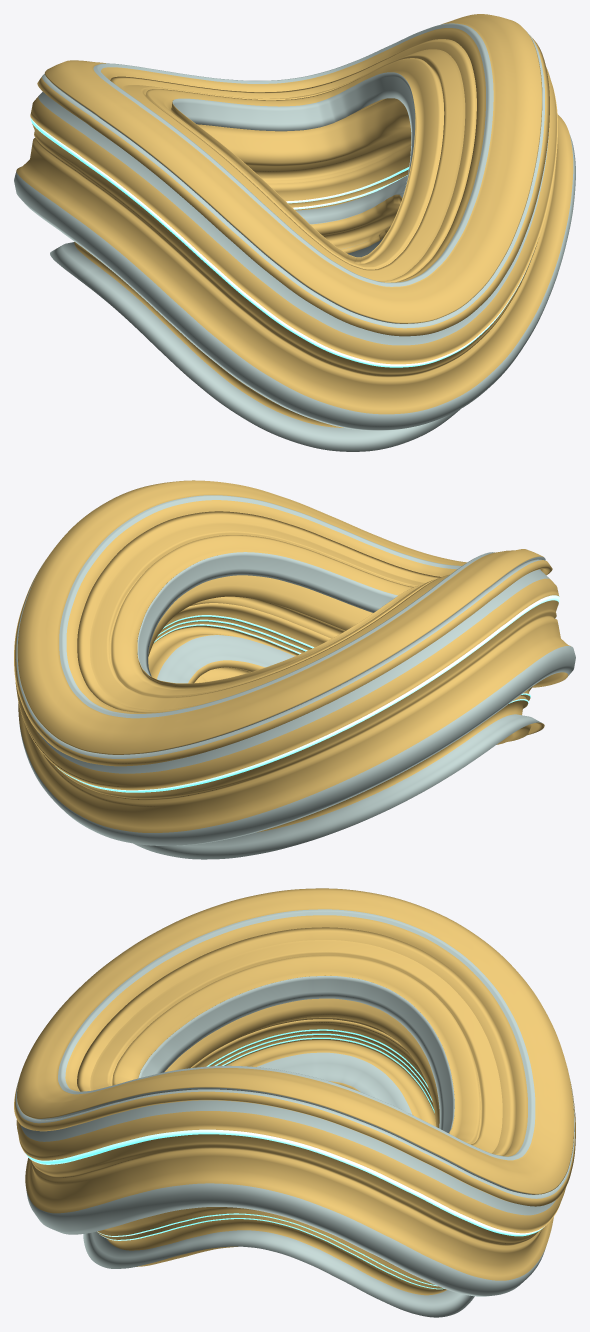
Rendered from test_-_blob_1.glb.
The picture shows the model from 3 angles, top to bottom: view 1: azimuth 30°, elevation 25°; view 2: azimuth 150°, elevation 25°; view 3: azimuth 270°, elevation 25°; orthographic projection. The views are drawn at different scales.
Parts seen in each view (by area): view 1: BezierCircle.001_2; view 2: BezierCircle.001_2; view 3: BezierCircle.001_2.
Part boxes in pixels (x1=…): BezierCircle.001_2: x1=14, y1=14, x2=575, y2=451; BezierCircle.001_2: x1=14, y1=480, x2=575, y2=859; BezierCircle.001_2: x1=14, y1=888, x2=575, y2=1317.
Size of the model in its own units: 1.75 by 0.9858 by 1.8.
